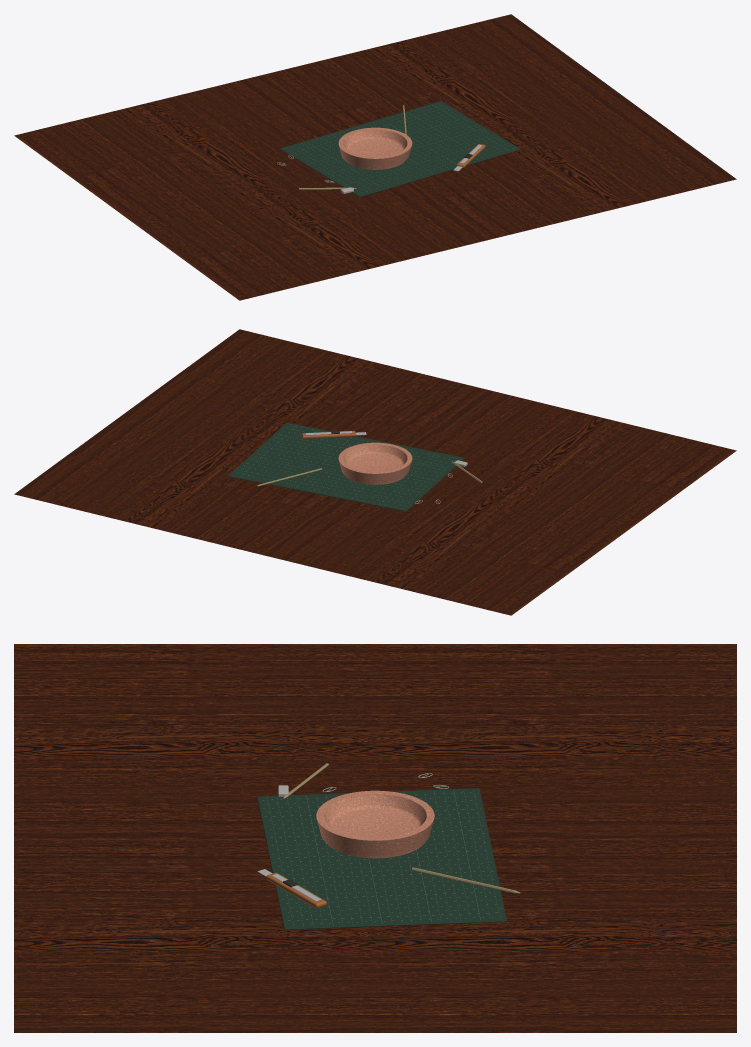
Rendered from workshop.glb.
The picture shows the model from 3 angles, top to bottom: view 1: azimuth 30°, elevation 25°; view 2: azimuth 150°, elevation 25°; view 3: azimuth 270°, elevation 25°; orthographic projection. The views are drawn at different scales.
Parts seen in each view (by area): view 1: Wooden work surface, Mat, Official Lusion coaster; view 2: Wooden work surface, Mat, Official Lusion coaster; view 3: Wooden work surface, Mat, Official Lusion coaster.
Boxes of the visible parts, x1,y1,x2,y2 form: Wooden work surface: (14, 14, 736, 300); Mat: (280, 101, 520, 196); Official Lusion coaster: (338, 127, 412, 169); Wooden work surface: (14, 329, 736, 615); Mat: (228, 422, 464, 511); Official Lusion coaster: (338, 442, 412, 484); Wooden work surface: (14, 644, 736, 1032); Mat: (257, 788, 506, 929); Official Lusion coaster: (316, 790, 434, 858).
Size of the model in its own units: 70 by 1.91 by 55.
Materials: 10 (2 with a texture image).
